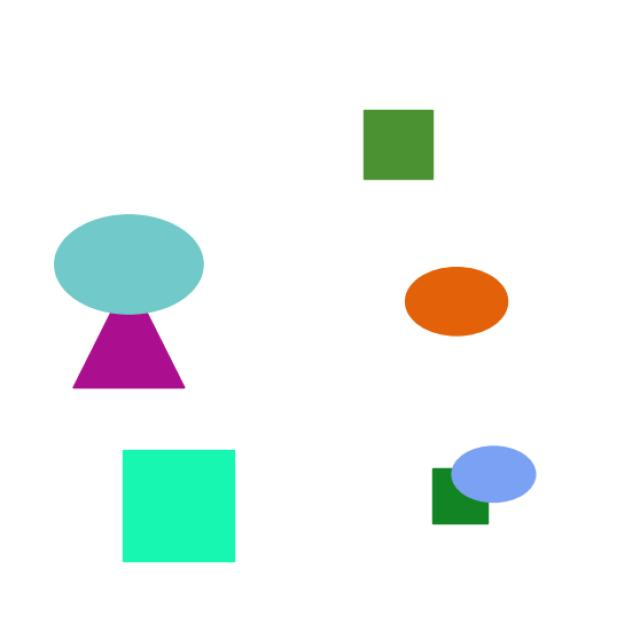Oval: (46, 214, 221, 324), (388, 259, 522, 341), (453, 445, 533, 507)
Triangle: (57, 269, 198, 411)
square: (112, 432, 261, 578), (343, 98, 443, 200), (416, 460, 500, 532)
